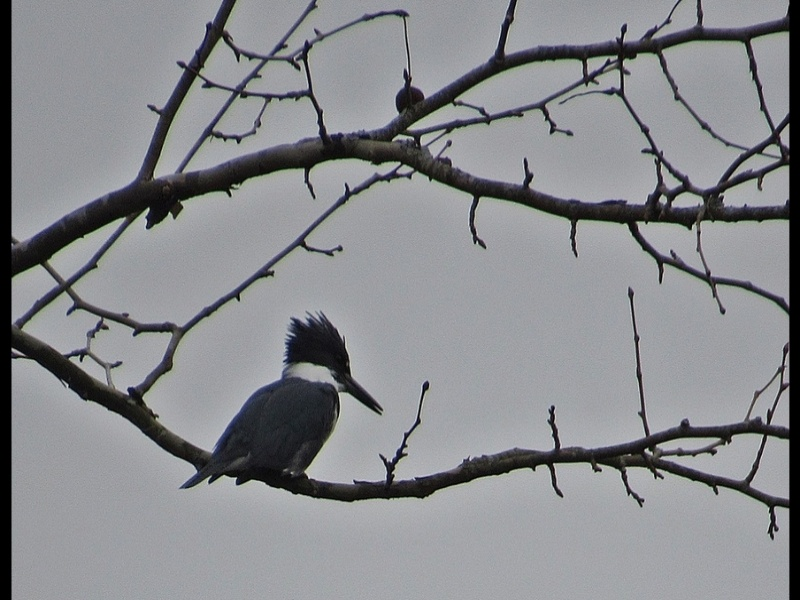kingfisher: (184, 310, 384, 493)
